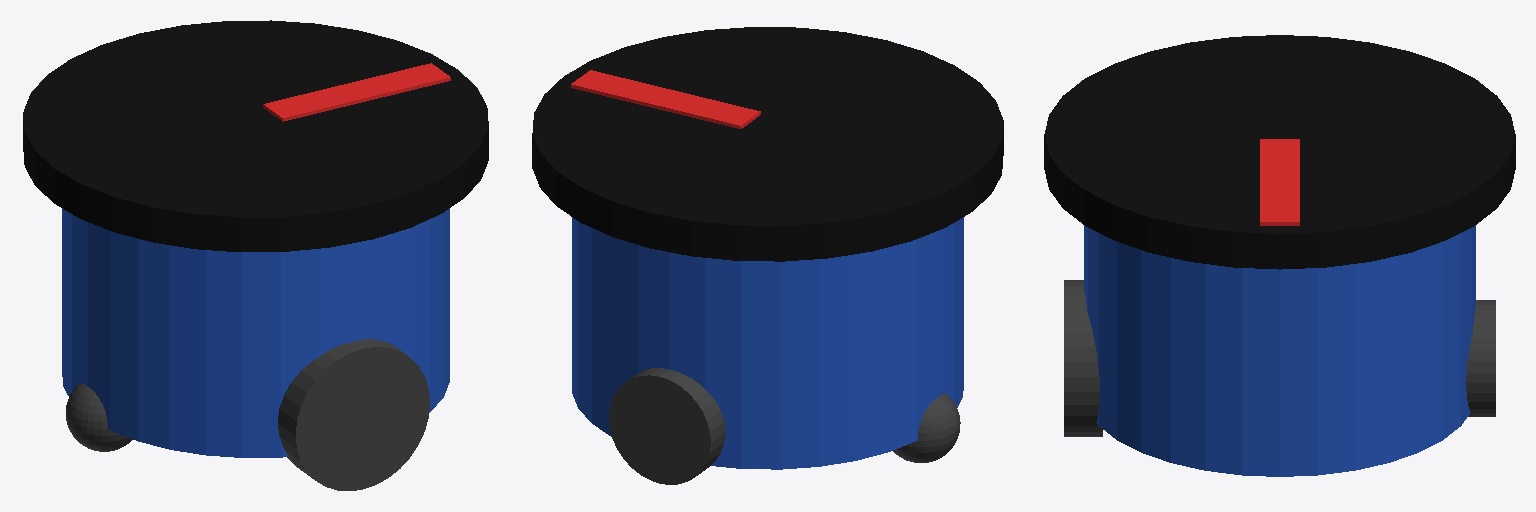
The robot description file, URDF, robot "diffdrive_wheel_robot_disc_bumper":
<?xml version="1.0" ?>
<!--
  Differential Drive Robot URDF (Disc Bumper Variant)

  Changes from diffdrive_wheel_robot.urdf:
  - Removes front sphere bumper.
  - Adds a thin-cylinder ("disc-like") bumper sensor at the front.
  - Bumper disc uses approximately the old main-body radius footprint.
  - Main body is reduced in size so body and bumper are clearly distinct.
-->
<robot name="diffdrive_wheel_robot_disc_bumper">
  <!-- ==================== MATERIALS ==================== -->
  <material name="robot_blue">
    <color rgba="0.2 0.4 0.8 1.0"/>
  </material>
  <material name="black">
    <color rgba="0.1 0.1 0.1 1.0"/>
  </material>
  <material name="dark_gray">
    <color rgba="0.3 0.3 0.3 1.0"/>
  </material>
  <material name="marker_green">
    <color rgba="0.2 0.8 0.2 1.0"/>
  </material>
  <material name="marker_red">
    <color rgba="0.9 0.2 0.2 1.0"/>
  </material>
  <!-- ==================== WORLD LINK ==================== -->
  <link name="world"/>

  <!-- ==================== PLANAR JOINTS ==================== -->
  <joint name="x_joint" type="prismatic">
    <parent link="world"/>
    <child link="x_carrier"/>
    <origin rpy="0 0 0" xyz="0 0 0.02"/>
    <axis xyz="1 0 0"/>
    <limit effort="1000" lower="-100" upper="100" velocity="10"/>
    <dynamics damping="1.0"/>
  </joint>
  <link name="x_carrier">
    <inertial>
      <mass value="0.01"/>
      <inertia ixx="0.0001" ixy="0" ixz="0" iyy="0.0001" iyz="0" izz="0.0001"/>
    </inertial>
  </link>

  <joint name="y_joint" type="prismatic">
    <parent link="x_carrier"/>
    <child link="y_carrier"/>
    <origin rpy="0 0 0" xyz="0 0 0"/>
    <axis xyz="0 1 0"/>
    <limit effort="1000" lower="-100" upper="100" velocity="10"/>
    <dynamics damping="1.0"/>
  </joint>
  <link name="y_carrier">
    <inertial>
      <mass value="0.01"/>
      <inertia ixx="0.0001" ixy="0" ixz="0" iyy="0.0001" iyz="0" izz="0.0001"/>
    </inertial>
  </link>

  <joint name="theta_joint" type="continuous">
    <parent link="y_carrier"/>
    <child link="base_link"/>
    <origin rpy="0 0 0" xyz="0 0 0"/>
    <axis xyz="0 0 1"/>
    <limit effort="1000" velocity="20"/>
    <dynamics damping="0.5"/>
  </joint>

  <!-- ==================== MAIN BODY (REDUCED SIZE) ==================== -->
  <link name="base_link">
    <visual>
      <geometry>
        <cylinder length="0.06" radius="0.05"/>
      </geometry>
      <origin rpy="0 0 0" xyz="0 0 0.02"/>
      <material name="robot_blue"/>
    </visual>
    <collision>
      <geometry>
        <cylinder length="0.06" radius="0.05"/>
      </geometry>
      <origin rpy="0 0 0" xyz="0 0 0.02"/>
    </collision>
    <inertial>
      <mass value="0.45"/>
      <origin xyz="0 0 0.02"/>
      <inertia ixx="0.00035" ixy="0" ixz="0" iyy="0.00035" iyz="0" izz="0.00060"/>
    </inertial>
  </link>

  <!-- Marker as dedicated link to preserve material/color in PyBullet -->
  <joint name="heading_marker_joint" type="fixed">
    <parent link="base_link"/>
    <child link="heading_marker_link"/>
    <origin rpy="0 0 0" xyz="0.03 0 0.06"/>
  </joint>
  <link name="heading_marker_link">
    <visual>
      <geometry>
        <box size="0.05 0.01 0.008"/>
      </geometry>
      <material name="marker_red"/>
    </visual>
    <inertial>
      <mass value="0.001"/>
      <inertia ixx="1e-8" ixy="0" ixz="0" iyy="1e-8" iyz="0" izz="1e-8"/>
    </inertial>
  </link>

  <!-- ==================== THIN DISC-LIKE BUMPER SENSOR ==================== -->
  <joint name="bumper_joint" type="fixed">
    <parent link="base_link"/>
    <child link="bumper"/>
    <!-- Place disc slightly in front of reduced body -->
    <origin rpy="0 0 0" xyz="0 0 0.058"/>
  </joint>
  <link name="bumper">
    <visual>
      <geometry>
        <!-- "Disc": radius copied from old body footprint (~0.06), thin thickness -->
        <cylinder length="0.01" radius="0.060"/>
      </geometry>
      <material name="black"/>
    </visual>
    <collision>
      <geometry>
        <cylinder length="0.01" radius="0.060"/>
      </geometry>
    </collision>
    <inertial>
      <mass value="0.08"/>
      <inertia ixx="0.00008" ixy="0" ixz="0" iyy="0.00008" iyz="0" izz="0.00012"/>
    </inertial>
  </link>

  <!-- ==================== DRIVE WHEELS ==================== -->
  <joint name="wheel_left_joint" type="continuous">
    <parent link="base_link"/>
    <child link="wheel_left_link"/>
    <origin rpy="-1.5708 0 0" xyz="0 0.05 0"/>
    <axis xyz="0 0 1"/>
    <limit effort="100" velocity="100"/>
    <dynamics damping="0.01"/>
  </joint>
  <link name="wheel_left_link">
    <visual>
      <geometry>
        <cylinder length="0.01" radius="0.015"/>
      </geometry>
      <material name="dark_gray"/>
    </visual>
    <collision>
      <geometry>
        <cylinder length="0.01" radius="0.02"/>
      </geometry>
    </collision>
    <inertial>
      <mass value="0.05"/>
      <inertia ixx="5.6e-06" ixy="0" ixz="0" iyy="5.6e-06" iyz="0" izz="1e-05"/>
    </inertial>
  </link>

  <joint name="wheel_right_joint" type="continuous">
    <parent link="base_link"/>
    <child link="wheel_right_link"/>
    <origin rpy="-1.5708 0 0" xyz="0 -0.05 0"/>
    <axis xyz="0 0 1"/>
    <limit effort="100" velocity="100"/>
    <dynamics damping="0.01"/>
  </joint>
  <link name="wheel_right_link">
    <visual>
      <geometry>
        <cylinder length="0.01" radius="0.02"/>
      </geometry>
      <material name="dark_gray"/>
    </visual>
    <collision>
      <geometry>
        <cylinder length="0.01" radius="0.02"/>
      </geometry>
    </collision>
    <inertial>
      <mass value="0.05"/>
      <inertia ixx="5.6e-06" ixy="0" ixz="0" iyy="5.6e-06" iyz="0" izz="1e-05"/>
    </inertial>
  </link>

  <!-- ==================== CASTER WHEEL ==================== -->
  <joint name="caster_joint" type="fixed">
    <parent link="base_link"/>
    <child link="caster_link"/>
    <origin rpy="0 0 0" xyz="-0.045 0 -0.01"/>
  </joint>
  <link name="caster_link">
    <visual>
      <geometry>
        <sphere radius="0.01"/>
      </geometry>
      <material name="dark_gray"/>
    </visual>
    <collision>
      <geometry>
        <sphere radius="0.01"/>
      </geometry>
    </collision>
    <inertial>
      <mass value="0.1"/>
      <inertia ixx="0.00001" ixy="0" ixz="0" iyy="0.00001" iyz="0" izz="0.00001"/>
    </inertial>
  </link>
</robot>

--- Render facts (derived) ---
3 views of the same robot in one strip: view 1: azimuth 30°, elevation 25°; view 2: azimuth 150°, elevation 25°; view 3: azimuth 270°, elevation 25° (orthographic).
Model diffdrive_wheel_robot_disc_bumper with 9 links and 8 joints (3 continuous, 2 prismatic, 3 fixed), rooted at world, posed every joint at zero.
Links seen in each view (by area): view 1: bumper, base_link, wheel_right_link, heading_marker_link, caster_link; view 2: bumper, base_link, wheel_left_link, heading_marker_link, caster_link; view 3: bumper, base_link, wheel_right_link, heading_marker_link, wheel_left_link.
Boxes of the visible links, x1,y1,x2,y2 form: bumper: (23,20,488,251); base_link: (62,208,449,457); wheel_right_link: (278,339,429,490); heading_marker_link: (263,63,450,121); caster_link: (66,383,132,451); bumper: (532,27,1003,261); base_link: (572,217,963,469); wheel_left_link: (609,368,725,484); heading_marker_link: (571,70,760,128); caster_link: (893,394,960,462); bumper: (1044,35,1515,269); base_link: (1084,225,1475,476); wheel_right_link: (1064,280,1102,436); heading_marker_link: (1260,139,1299,225); wheel_left_link: (1466,300,1495,416).
Bounding box of the posed robot: 0.12 × 0.12 × 0.084 m (x, y, z).
Geometry: primitives only (box / cylinder / sphere), no mesh files.
